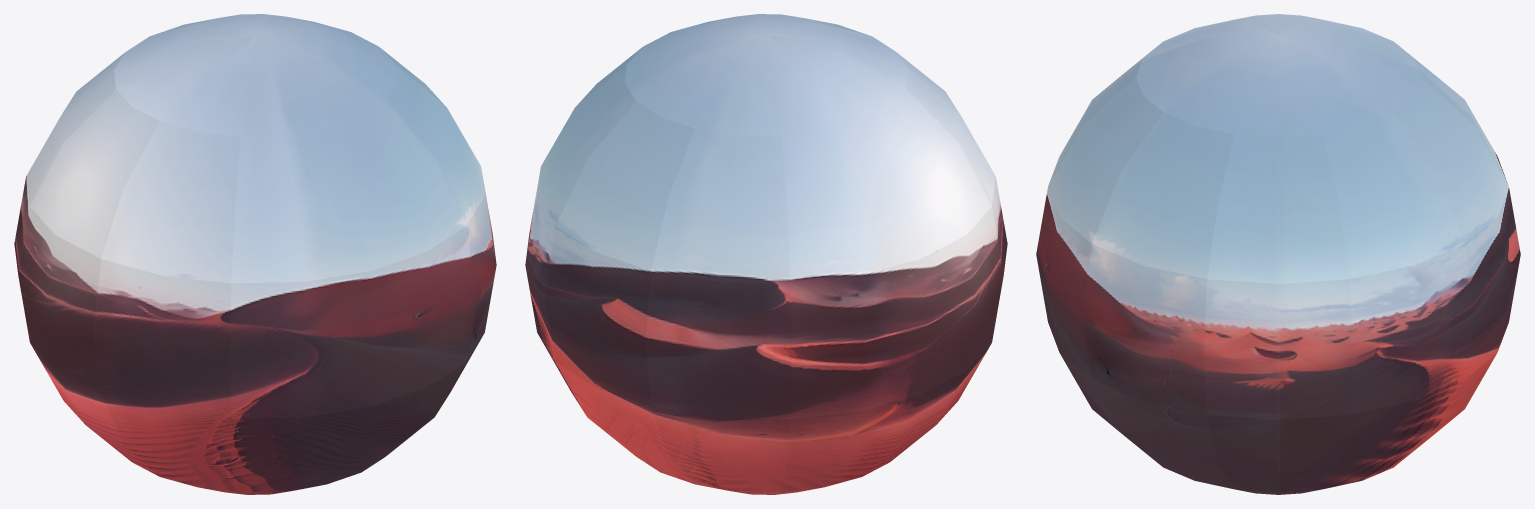
3 views of the same model, side by side, from view 1: azimuth 30°, elevation 25°; view 2: azimuth 150°, elevation 25°; view 3: azimuth 270°, elevation 25° (orthographic).
Visible parts, largest first — view 1: Top_1_4, Side_24_27_56, Side_06_9_20, Side_08_11_24, Side_26_29_60, Side_09_12_26, Side_23_26_54, Side_05_8_18, Side_27_30_62, Side_07_10_22, Side_25_28_58, Side_14_17_36 (+5 smaller); view 2: Top_1_4, Side_15_18_38, Side_03_6_14, Side_01_4_10, Side_29_32_66, Side_00_3_8, Side_17_20_42, Side_05_8_18, Side_27_30_62, Side_02_5_12, Side_28_31_64, Side_12_15_32 (+5 smaller); view 3: Top_1_4, Side_13_16_34, Side_20_23_48, Side_18_21_44, Side_21_24_50, Side_12_15_32, Side_14_17_36, Side_19_22_46, Side_17_20_42, Side_23_26_54, Side_10_13_28, Side_11_14_30 (+6 smaller).
Part boxes in pixels (<box>): Top_1_4: <box>113,14,397,136</box>; Side_24_27_56: <box>230,271,376,419</box>; Side_06_9_20: <box>93,259,231,419</box>; Side_08_11_24: <box>231,129,370,283</box>; Side_26_29_60: <box>101,121,240,283</box>; Side_09_12_26: <box>371,226,476,406</box>; Side_23_26_54: <box>327,101,465,270</box>; Side_05_8_18: <box>30,89,159,258</box>; Side_27_30_62: <box>18,207,100,394</box>; Side_07_10_22: <box>231,407,370,492</box>; Side_25_28_58: <box>101,395,240,491</box>; Side_14_17_36: <box>386,64,484,225</box>; Top_1_4: <box>624,14,908,136</box>; Side_15_18_38: <box>645,271,791,419</box>; Side_03_6_14: <box>790,259,928,419</box>; Side_01_4_10: <box>651,129,790,283</box>; Side_29_32_66: <box>781,121,920,283</box>; Side_00_3_8: <box>545,226,650,406</box>; Side_17_20_42: <box>556,101,694,270</box>; Side_05_8_18: <box>862,89,991,258</box>; Side_27_30_62: <box>921,207,1003,394</box>; Side_02_5_12: <box>651,407,790,492</box>; Side_28_31_64: <box>781,395,920,491</box>; Side_12_15_32: <box>537,64,635,225</box>; Top_1_4: <box>1136,14,1420,136</box>; Side_13_16_34: <box>1203,279,1353,419</box>; Side_20_23_48: <box>1207,134,1349,283</box>; Side_18_21_44: <box>1349,244,1474,414</box>; Side_21_24_50: <box>1082,244,1207,414</box>; Side_12_15_32: <box>1322,112,1464,278</box>; Side_14_17_36: <box>1092,112,1234,278</box>; Side_19_22_46: <box>1207,415,1349,492</box>; Side_17_20_42: <box>1394,77,1508,243</box>; Side_23_26_54: <box>1048,77,1162,243</box>; Side_10_13_28: <box>1092,380,1233,489</box>; Side_11_14_30: <box>1323,380,1464,489</box>.
Bounding box in the file's own units: 8.21 × 8.21 × 8.21.
1 material, 1 textured.
